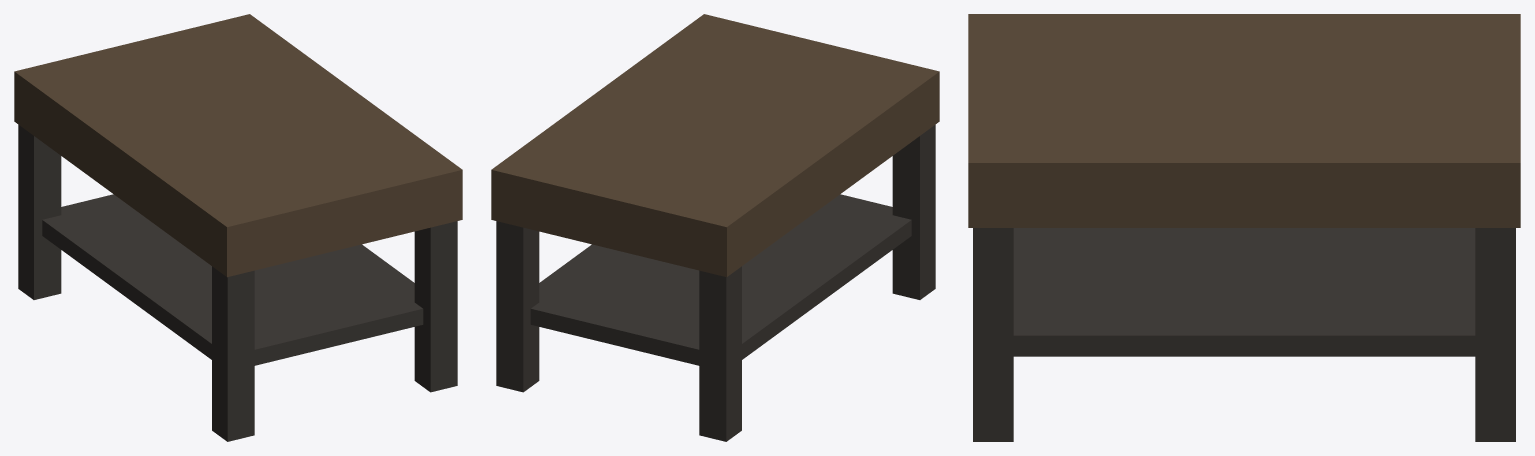
File: SM_Cupboard_02.glb
3 renders of one model, left to right at view 1: azimuth 30°, elevation 25°; view 2: azimuth 150°, elevation 25°; view 3: azimuth 270°, elevation 25°, orthographic. The views are drawn at different scales.
Visible parts, largest first — view 1: SM_Cupboard_02; view 2: SM_Cupboard_02; view 3: SM_Cupboard_02.
Boxes of the visible parts, x1,y1,x2,y2 form: SM_Cupboard_02: [14, 14, 462, 441]; SM_Cupboard_02: [491, 14, 939, 441]; SM_Cupboard_02: [968, 14, 1520, 441].
Size of the model in its own units: 0.5309 by 0.4664 by 0.8308.
1 material, 1 textured.
